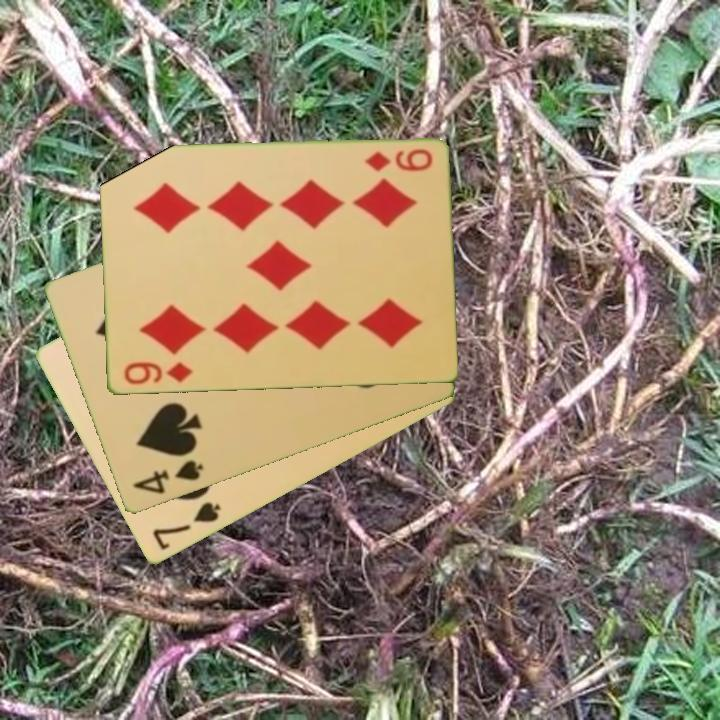4s: (128, 456, 206, 498)
7s: (148, 498, 224, 554)
9d: (120, 358, 195, 388), (360, 145, 434, 175)
